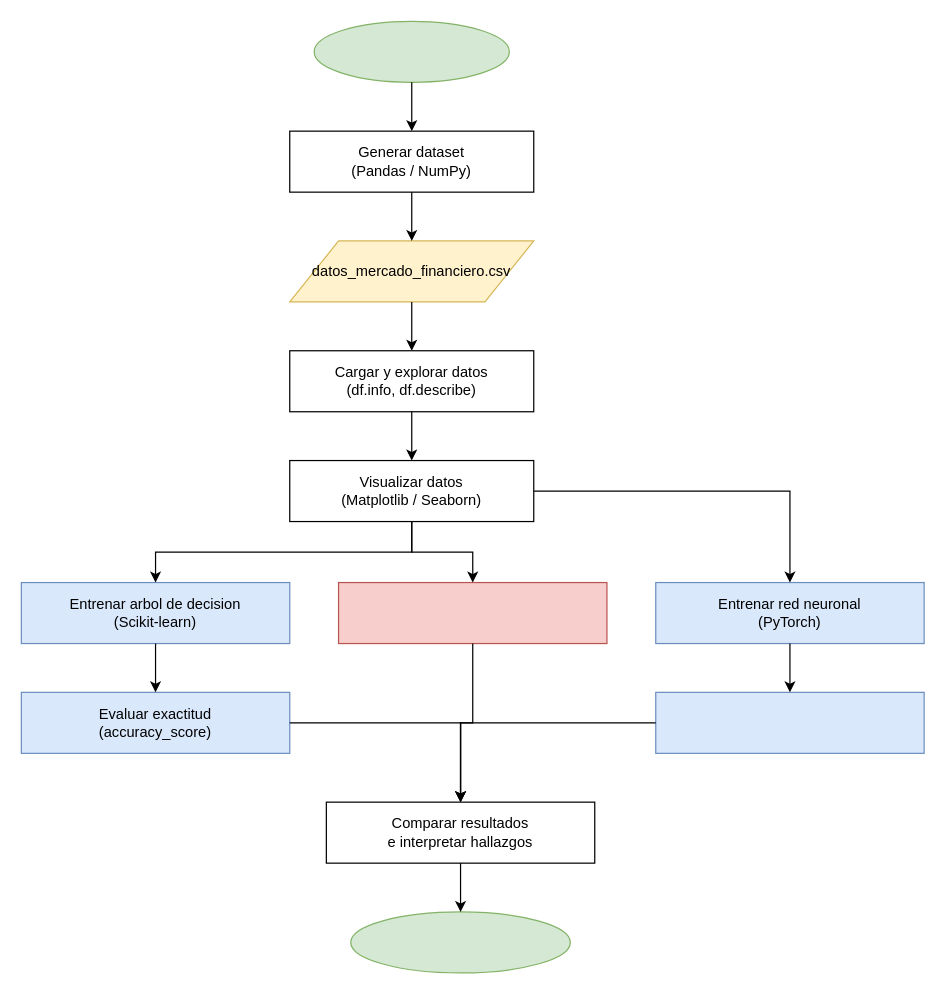
This 946x994 diagram has some shape labels left out. The centre of each missing label's shape, as x and y in pixels:
Evaluar exactitud (sobre datos de prueba): (789,722)
Fin / Informe final: (460,942)
Inicio: (411,51)
Procesar reportes NLP (Tokenizacion / TF-IDF): (472,612)
